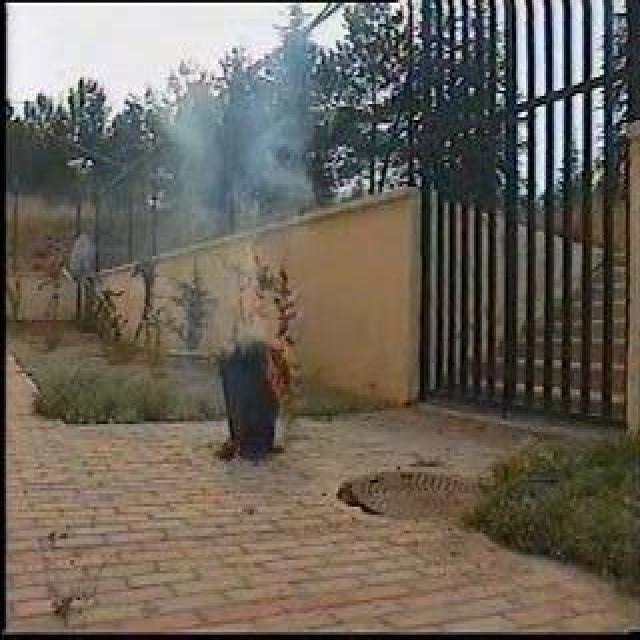Smoke: (183, 129, 287, 255)
